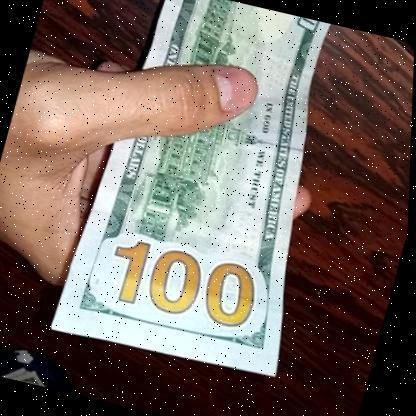one_hundred-back: (47, 0, 372, 385)
